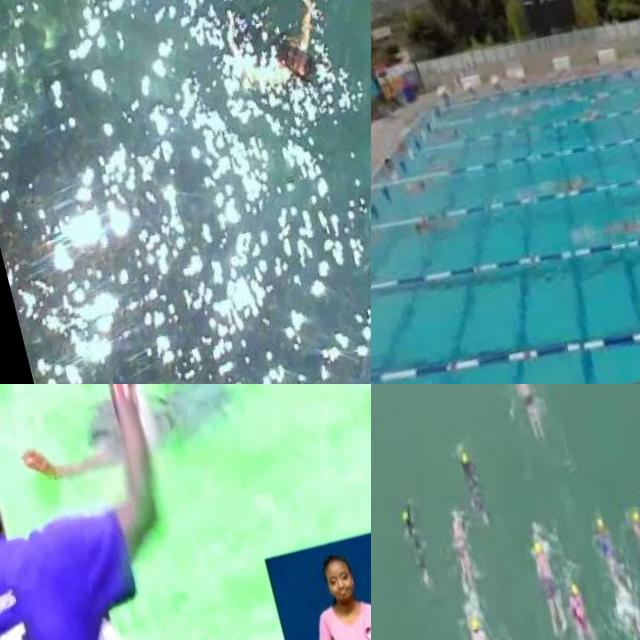drowning: (9, 384, 245, 507)
out of water: (0, 384, 201, 640)
swimming: (206, 0, 342, 110), (517, 518, 573, 640), (459, 600, 515, 640), (543, 160, 595, 202), (593, 207, 640, 253), (408, 212, 448, 248), (570, 96, 612, 128), (629, 496, 640, 594), (406, 173, 442, 196)
